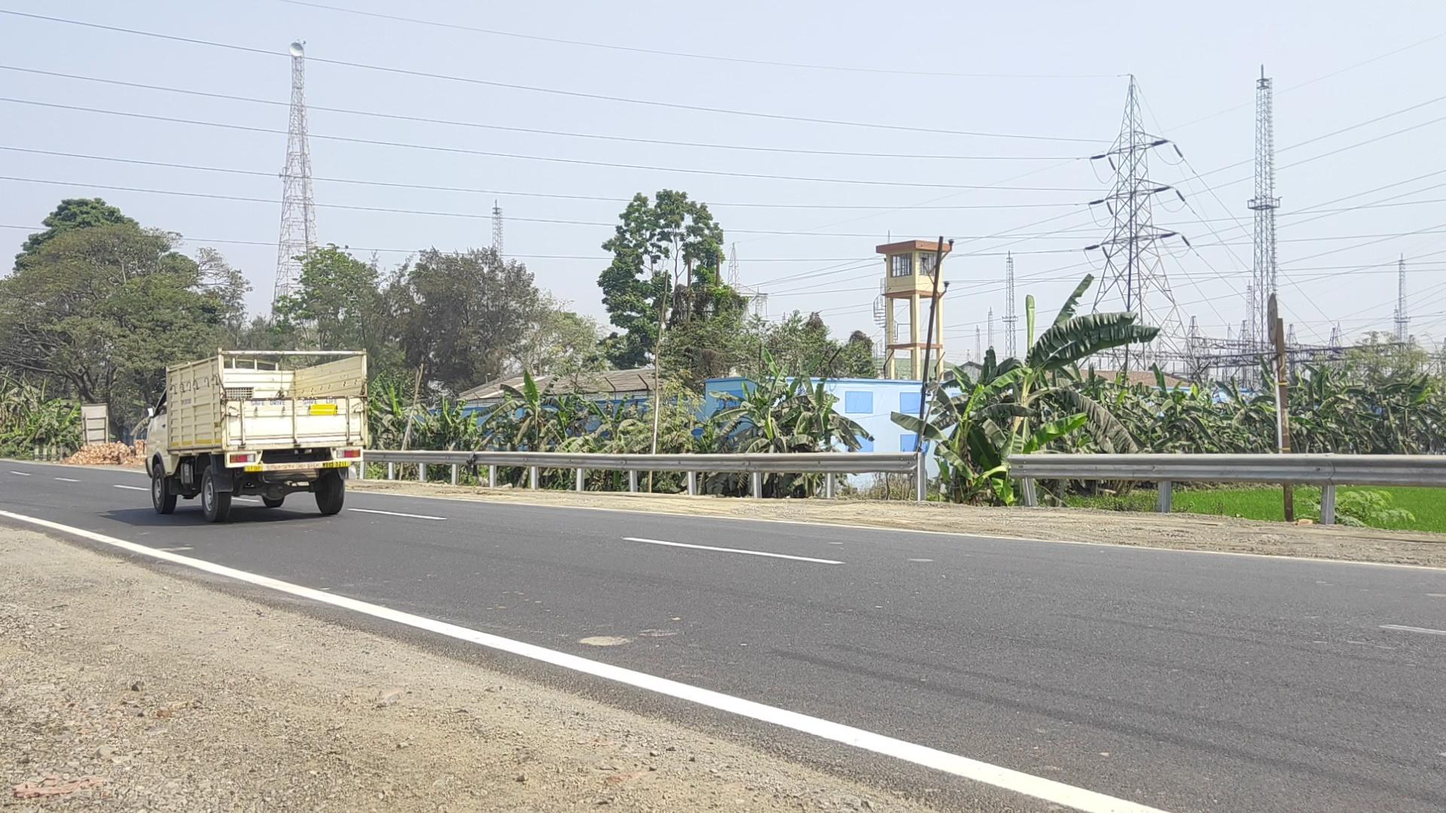van: (145, 347, 368, 525)
